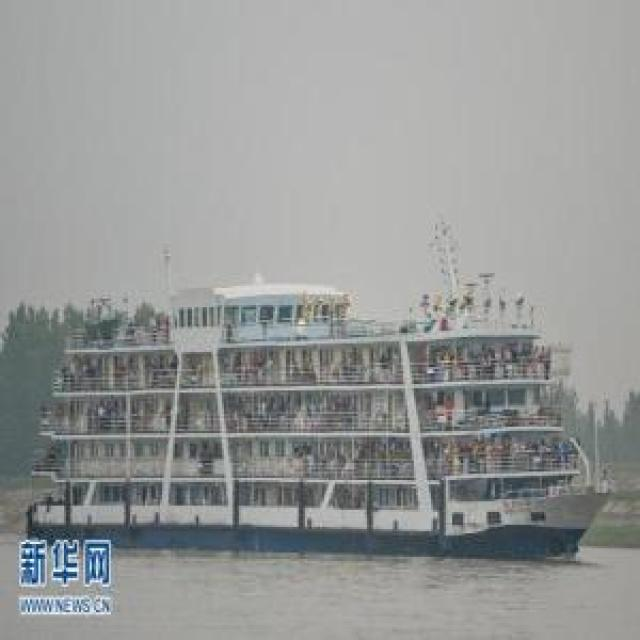passenger ship: (36, 272, 603, 560)
